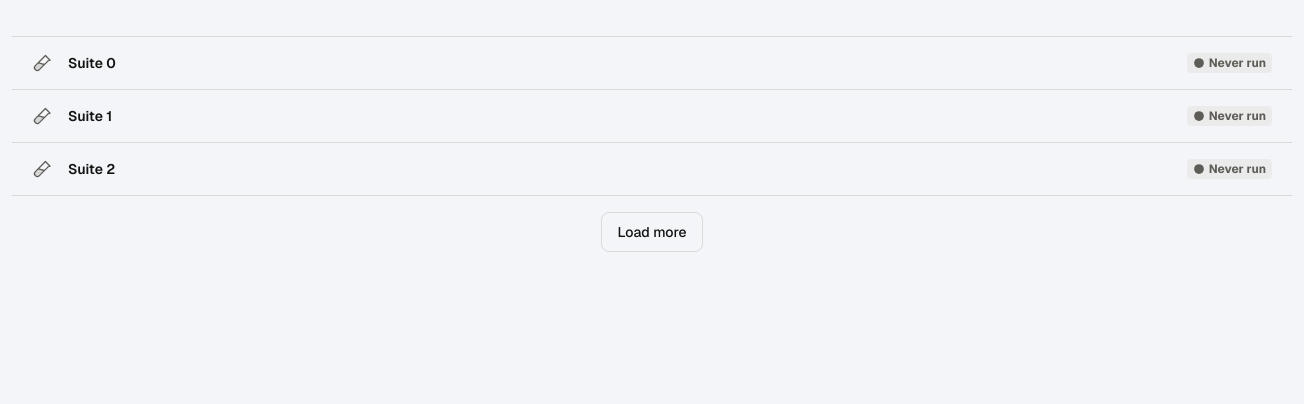
it: SuiteListResults loading more › the focus after loading more › does not take the focus from where the user moved it while the page loaded
The width and height of the screenshot is (1304, 404).
Click the button "Load more".
click(652, 232)  # box [600, 212, 704, 252]
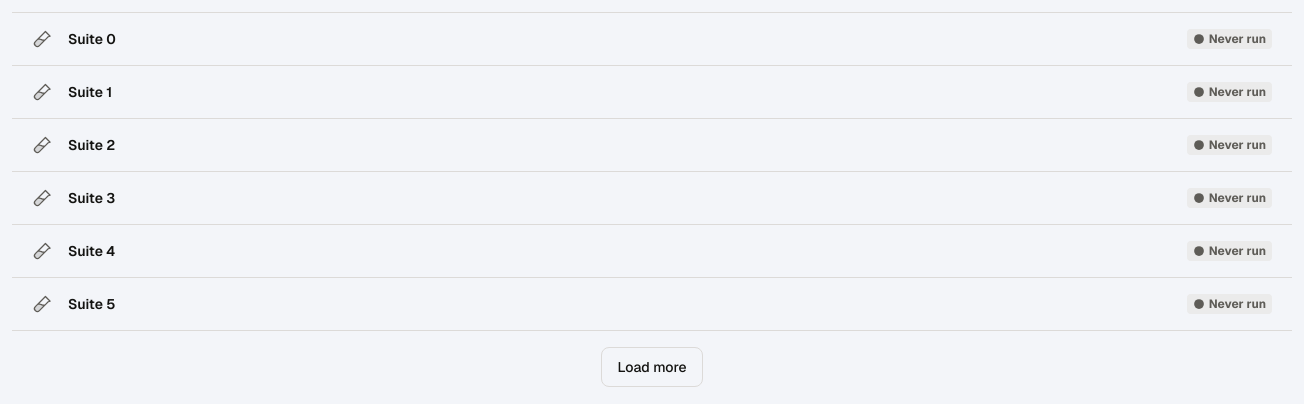
Now the element with test id "suite-row-s5" is shown, box [32, 292, 1272, 316]
